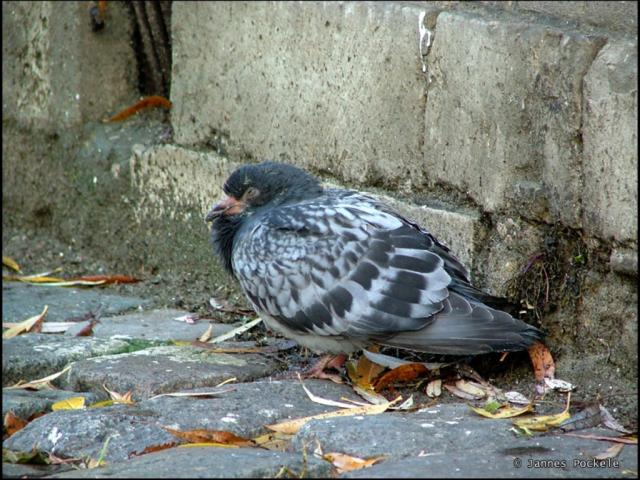Bird: (206, 164, 543, 376)
